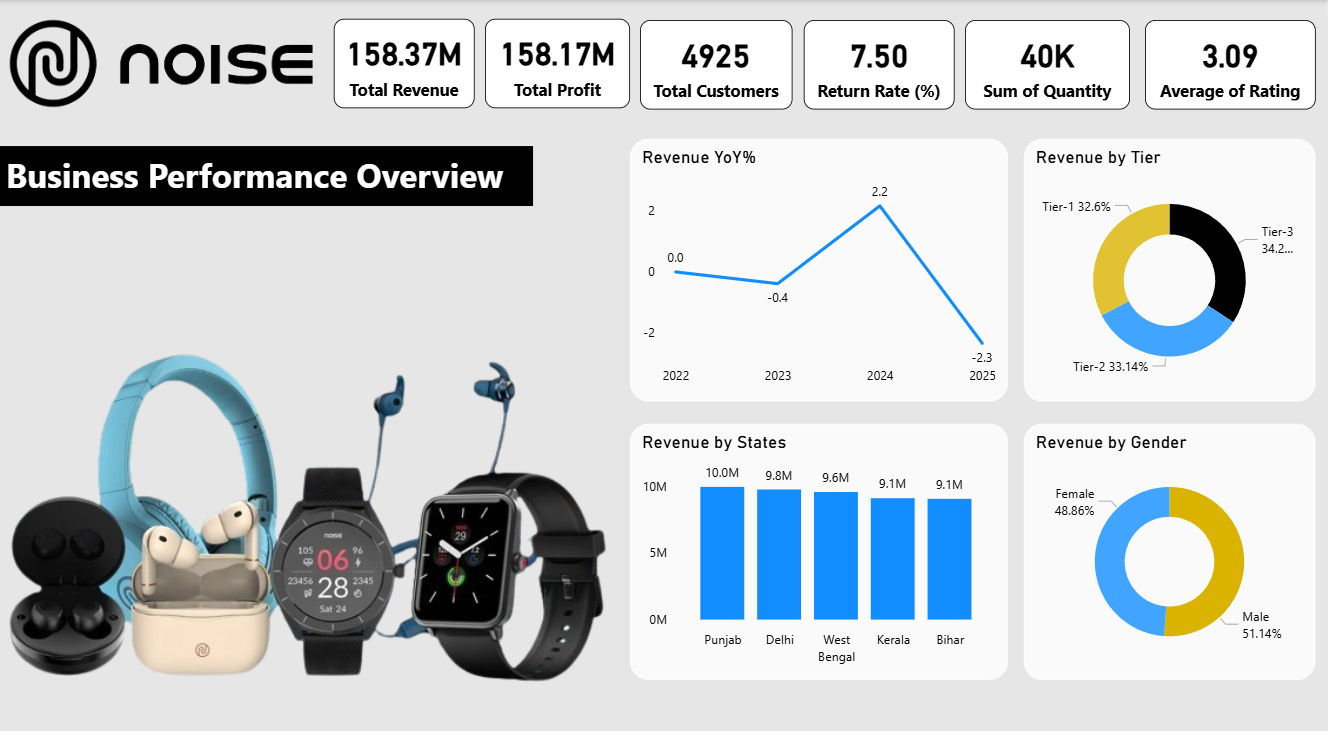

Layout of this report page (visuals, bound fields, positions):
{"tool":"powerbi","page":{"name":"Business Performance","canvas":[1280,720],"ordinal":0},"visuals":[{"type":"image","box":[0,9.6,311.5,102.9],"z":0},{"type":"image","box":[0,322.5,596.9,367.8],"z":1000},{"type":"card","fields":{"Values":["sales.Total Profit"]},"box":[467.9,17.8,140,86.4],"z":2000},{"type":"card","fields":{"Values":["sales.Total Revenue"]},"box":[322.5,17.8,135.8,86.4],"z":3000},{"type":"card","fields":{"Values":["Sum(sales.Quantity)"]},"box":[931.7,19.2,159.2,86.4],"z":4000},{"type":"card","fields":{"Values":["Count(sales.CustomerID)"]},"box":[617.5,19.2,146.8,86.4],"z":5000},{"type":"card","fields":{"Values":["returns.Return Rate (%)"]},"box":[775.3,19.2,145.5,86.4],"z":6000},{"type":"card","fields":{"Values":["Avg(reviews.Rating)"]},"box":[1104.6,19.2,164.7,86.4],"z":7000},{"type":"textbox","box":[0,141.3,514.6,57.6],"z":8000},{"type":"lineChart","title":"Revenue YoY%","fields":{"Category":["sales.OrderDate.Variation.Date Hierarchy.Year"],"Y":["sales.Revenue YoY %"]},"box":[607.9,134.5,365,253.9],"z":9000},{"type":"donutChart","title":"Revenue by Tier","fields":{"Category":["customers.Tier"],"Y":["Sum(sales.Revenue)"]},"box":[988,134.5,281.3,253.9],"z":10000},{"type":"clusteredColumnChart","title":"Revenue by States","fields":{"Y":["Sum(sales.Revenue)"],"Category":["customers.State"]},"box":[607.9,408.9,365,247],"z":12000},{"type":"donutChart","title":"Revenue by Gender","fields":{"Y":["Sum(sales.Revenue)"],"Category":["customers.Gender"]},"box":[988,408.9,281.3,247],"z":13000}]}

Visuals, with their boxes in screenshot pixels (x1, y1, x2, y2), scaled from the page's 1280x720 canvas onto the 1328x731 screenshot:
image: x1=0, y1=10, x2=323, y2=114
image: x1=0, y1=327, x2=619, y2=701
card - sales.Total Profit: x1=485, y1=18, x2=631, y2=106
card - sales.Total Revenue: x1=335, y1=18, x2=475, y2=106
card - Sum(sales.Quantity): x1=967, y1=19, x2=1132, y2=107
card - Count(sales.CustomerID): x1=641, y1=19, x2=793, y2=107
card - returns.Return Rate (%): x1=804, y1=19, x2=955, y2=107
card - Avg(reviews.Rating): x1=1146, y1=19, x2=1317, y2=107
textbox: x1=0, y1=143, x2=534, y2=202
"Revenue YoY%" lineChart: x1=631, y1=137, x2=1009, y2=394
"Revenue by Tier" donutChart: x1=1025, y1=137, x2=1317, y2=394
"Revenue by States" clusteredColumnChart: x1=631, y1=415, x2=1009, y2=666
"Revenue by Gender" donutChart: x1=1025, y1=415, x2=1317, y2=666
